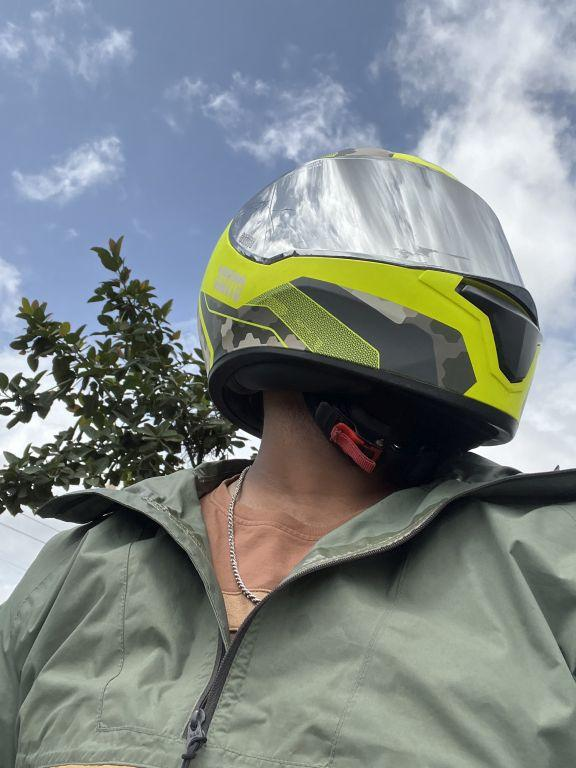helmet: (182, 127, 554, 502)
